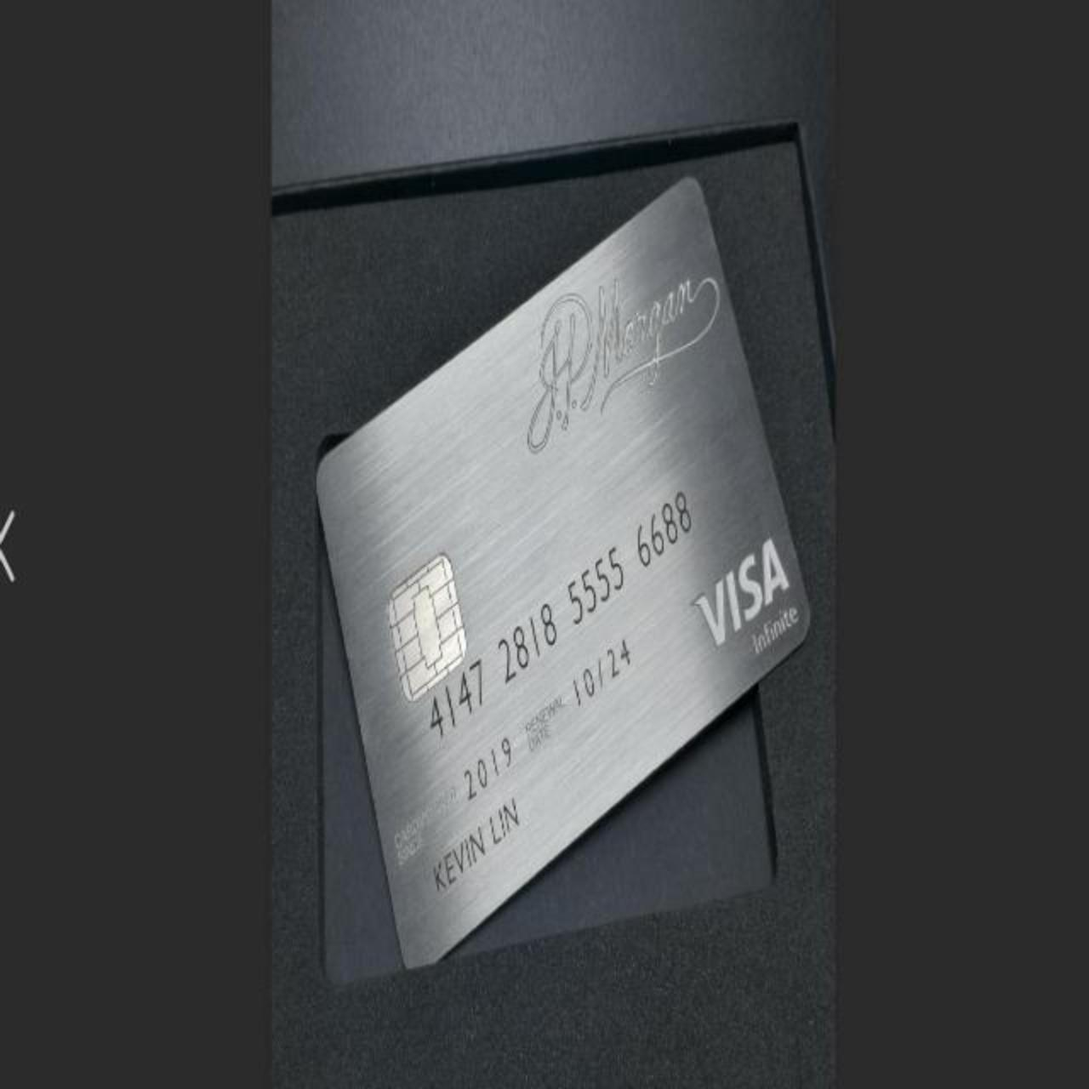credit_card: (310, 170, 827, 997)
